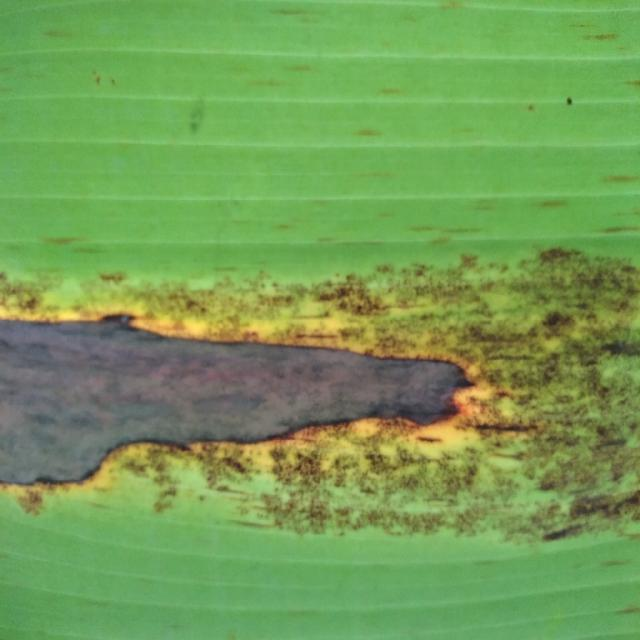Early_rust: (0, 189, 640, 550)
